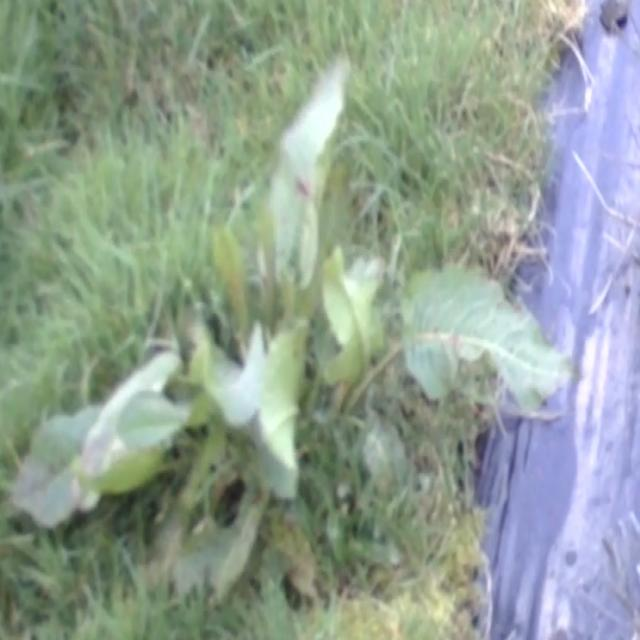organic waste: (15, 77, 549, 521)
